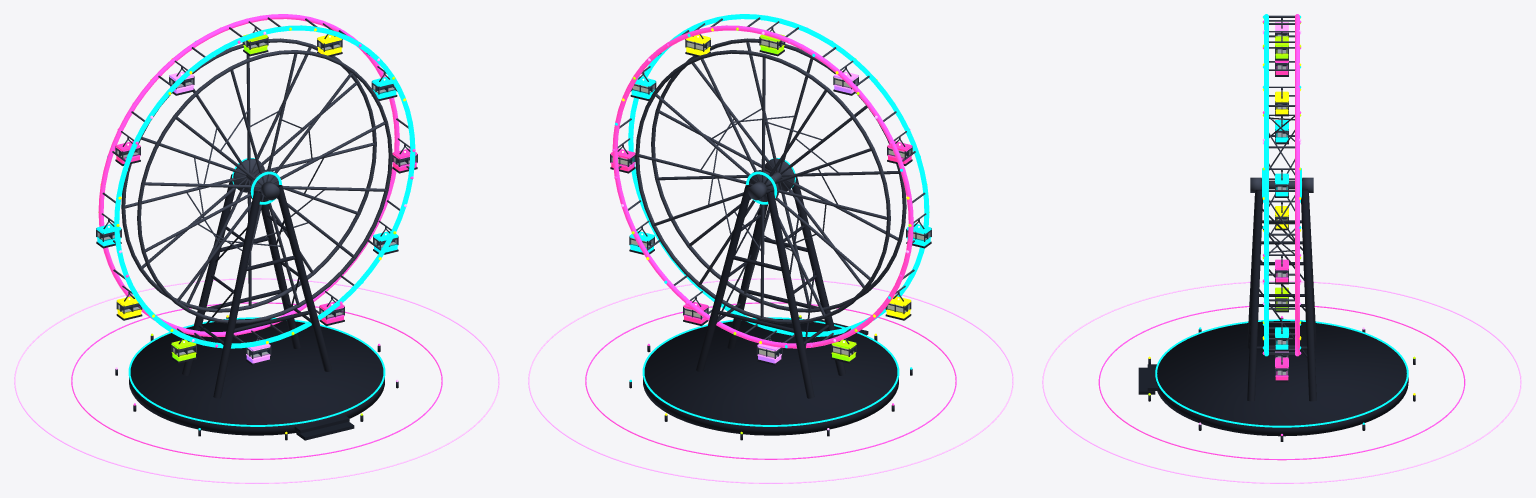
Rendered from ferris_wheel.glb.
The picture shows the model from 3 angles, left to right: view 1: azimuth 30°, elevation 25°; view 2: azimuth 150°, elevation 25°; view 3: azimuth 270°, elevation 25°; orthographic projection.
Visible parts, largest first — view 1: FW_Platform, FW_RimMinus, FW_RimPlus, FW_InnerRing_-1, FW_InnerRing_1, FW_GroundRing2, FW_Leg_-1_-1, FW_Leg_1_-1, FW_GroundRing1, FW_EdgeRing, FW_Leg_-1_1, FW_Leg_1_1; view 2: FW_Platform, FW_RimPlus, FW_RimMinus, FW_InnerRing_1, FW_InnerRing_-1, FW_GroundRing2, FW_Leg_-1_1, FW_Leg_1_1, FW_GroundRing1, FW_EdgeRing, FW_Leg_-1_-1, FW_Leg_1_-1; view 3: FW_Platform, FW_GroundRing2, FW_Leg_1_-1, FW_Leg_1_1, FW_RimMinus, FW_RimPlus, FW_GroundRing1, FW_EdgeRing.
Boxes of the visible parts, x1,y1,x2,y2 form: FW_Platform: [129, 319, 384, 435]; FW_RimMinus: [114, 25, 415, 348]; FW_RimPlus: [98, 14, 399, 337]; FW_InnerRing_-1: [137, 50, 392, 323]; FW_InnerRing_1: [121, 38, 376, 312]; FW_GroundRing2: [14, 278, 499, 483]; FW_Leg_-1_-1: [213, 191, 261, 398]; FW_Leg_1_-1: [277, 185, 331, 371]; FW_GroundRing1: [71, 302, 442, 459]; FW_EdgeRing: [128, 317, 385, 426]; FW_Leg_-1_1: [182, 174, 235, 375]; FW_Leg_1_1: [261, 204, 300, 348]; FW_Platform: [643, 319, 898, 435]; FW_RimPlus: [612, 25, 913, 348]; FW_RimMinus: [628, 14, 929, 337]; FW_InnerRing_1: [635, 50, 890, 323]; FW_InnerRing_-1: [651, 38, 906, 312]; FW_GroundRing2: [528, 278, 1013, 483]; FW_Leg_-1_1: [766, 191, 814, 398]; FW_Leg_1_1: [696, 185, 750, 371]; FW_GroundRing1: [585, 302, 956, 459]; FW_EdgeRing: [642, 317, 899, 426]; FW_Leg_-1_-1: [792, 177, 845, 375]; FW_Leg_1_-1: [727, 204, 767, 348]; FW_Platform: [1156, 321, 1408, 436]; FW_GroundRing2: [1042, 281, 1521, 483]; FW_Leg_1_-1: [1247, 189, 1262, 401]; FW_Leg_1_1: [1301, 189, 1316, 401]; FW_RimMinus: [1264, 14, 1268, 356]; FW_RimPlus: [1295, 14, 1299, 356]; FW_GroundRing1: [1098, 306, 1465, 460]; FW_EdgeRing: [1155, 319, 1408, 427].
Size of what is drawn, in the model's own units: 34.09 by 27.69 by 34.09.
